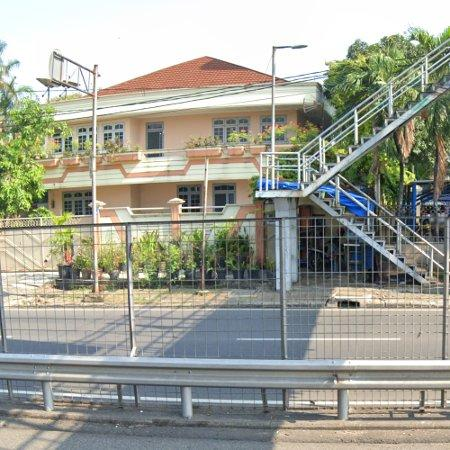stairs: (261, 39, 450, 197), (309, 177, 450, 360)
